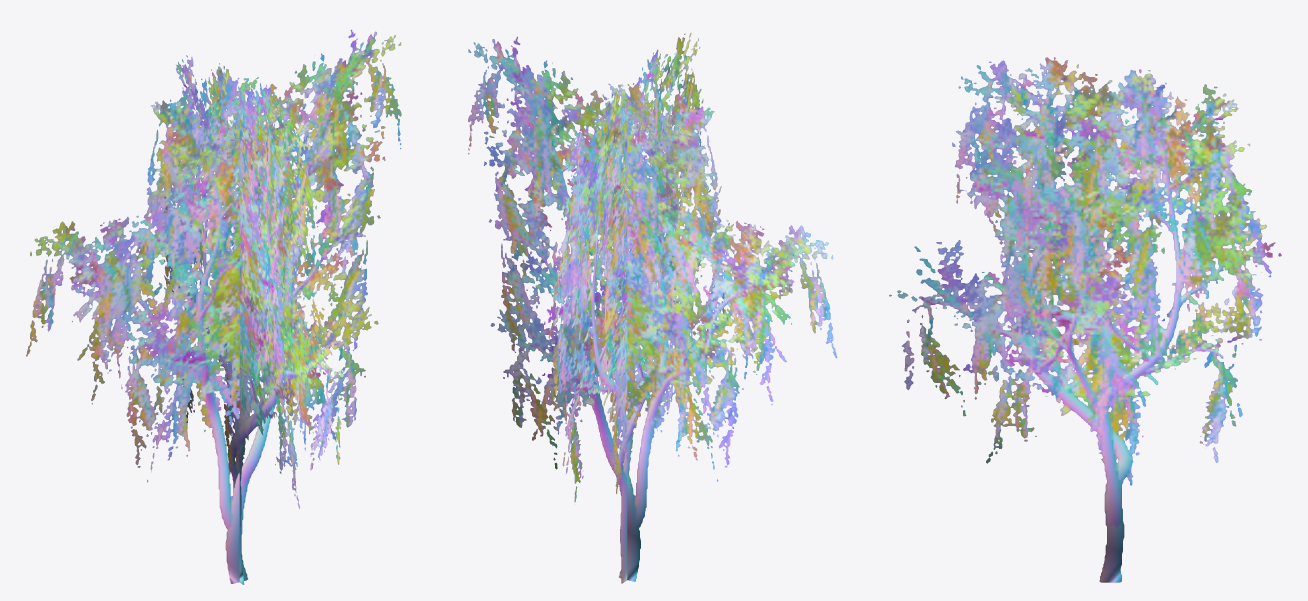
Rendered from tree_young_birch_02_CROSS.FBX.
The picture shows the model from 3 angles, left to right: view 1: azimuth 30°, elevation 25°; view 2: azimuth 150°, elevation 25°; view 3: azimuth 270°, elevation 25°; orthographic projection. The views are drawn at different scales.
Parts seen in each view (by area): view 1: tree_young_birch_02_CROSS; view 2: tree_young_birch_02_CROSS; view 3: tree_young_birch_02_CROSS.
Part boxes in pixels (x1,y1,x2,y2): tree_young_birch_02_CROSS: (26,29,401,584); tree_young_birch_02_CROSS: (468,33,837,583); tree_young_birch_02_CROSS: (889,57,1281,582).
Bounding box in the file's own units: 7371 × 9186 × 6439.
